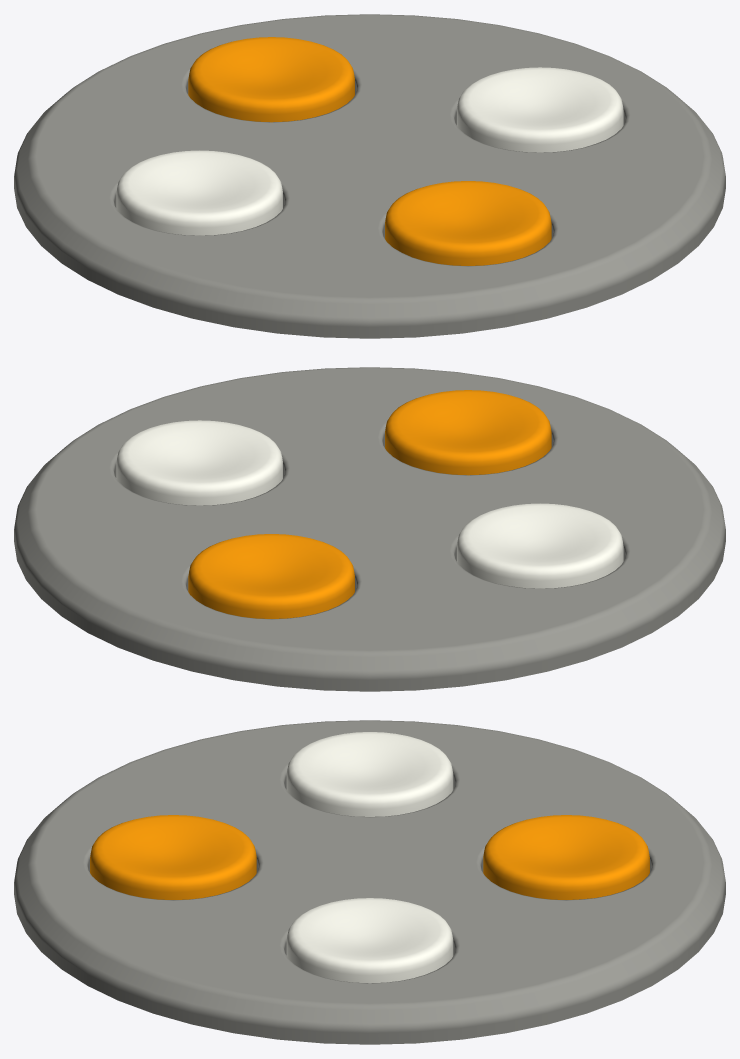
File: DPad #2.fbx
3 renders of one model, top to bottom at view 1: azimuth 30°, elevation 25°; view 2: azimuth 150°, elevation 25°; view 3: azimuth 270°, elevation 25°, orthographic.
Visible parts, largest first — view 1: kitbash_82; view 2: kitbash_82; view 3: kitbash_82.
Boxes of the visible parts, x1,y1,x2,y2 form: kitbash_82: (14, 14, 725, 338); kitbash_82: (14, 367, 725, 691); kitbash_82: (14, 720, 725, 1044).
Size of the model in its own units: 8.66 by 0.6324 by 8.66.
